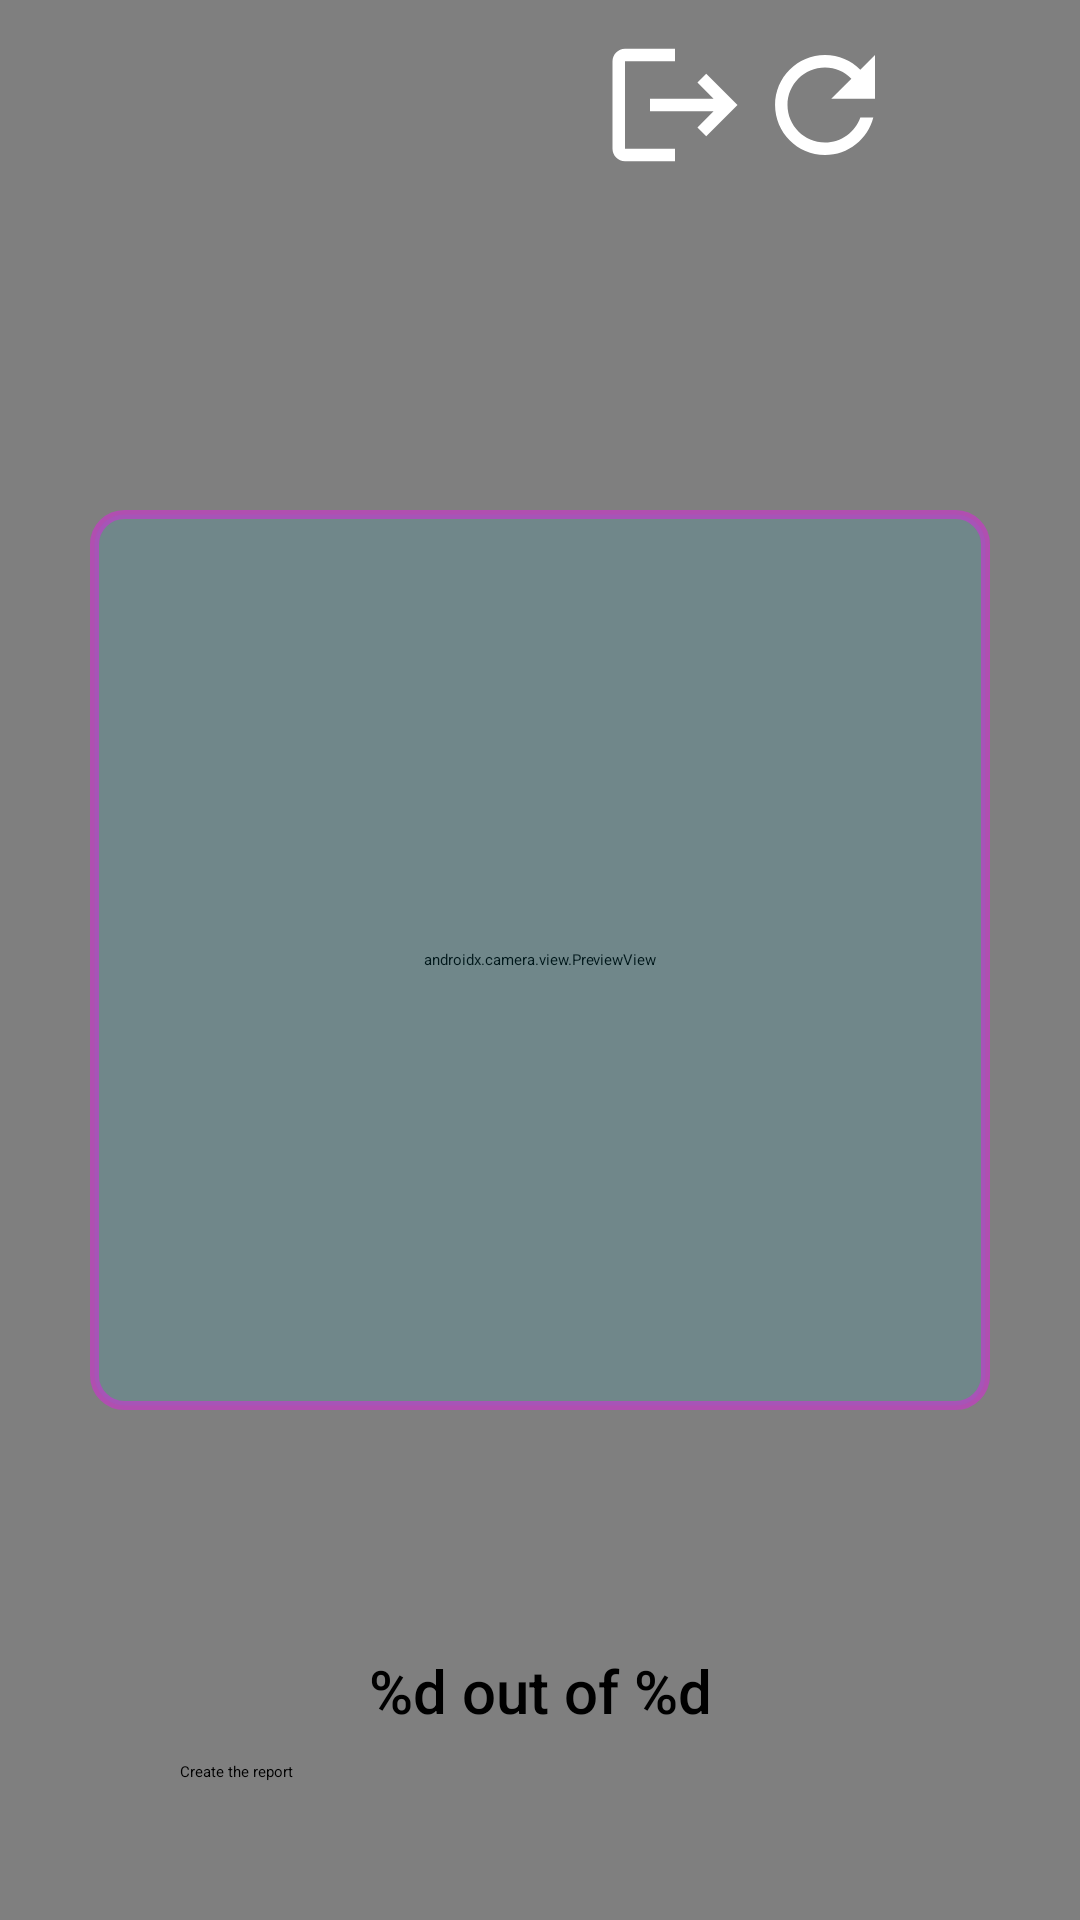

Icons on this 1080×1920 Android screen, each with the point to tap as (x,y):
New session: (825,105)
